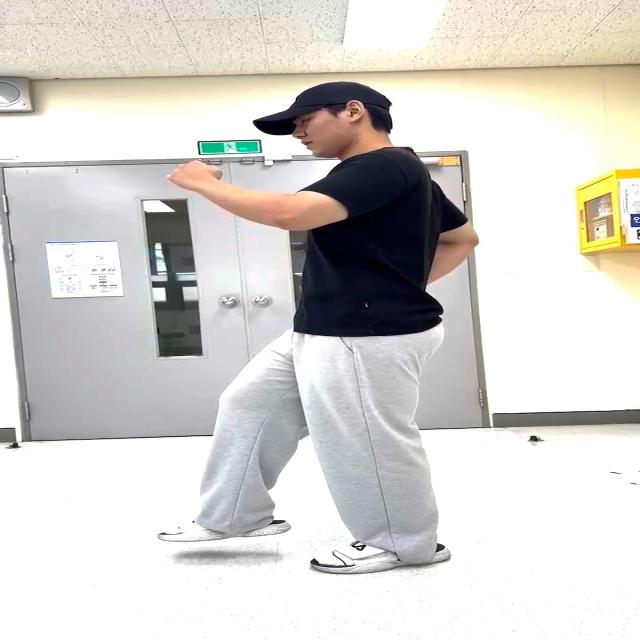leg: (185, 342, 292, 542)
